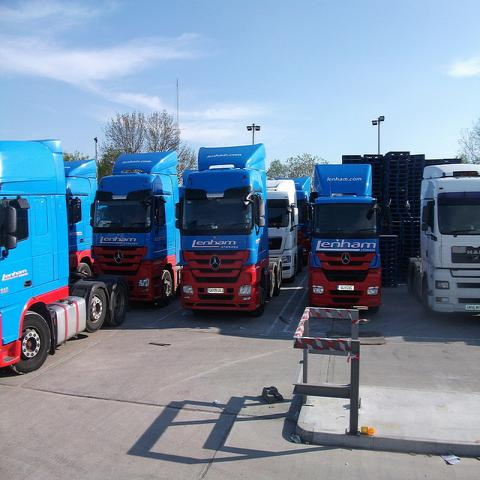truck: (0, 140, 129, 371), (175, 142, 285, 322), (89, 150, 183, 306), (404, 163, 480, 315), (304, 162, 382, 306), (63, 160, 100, 292), (269, 174, 304, 280)
